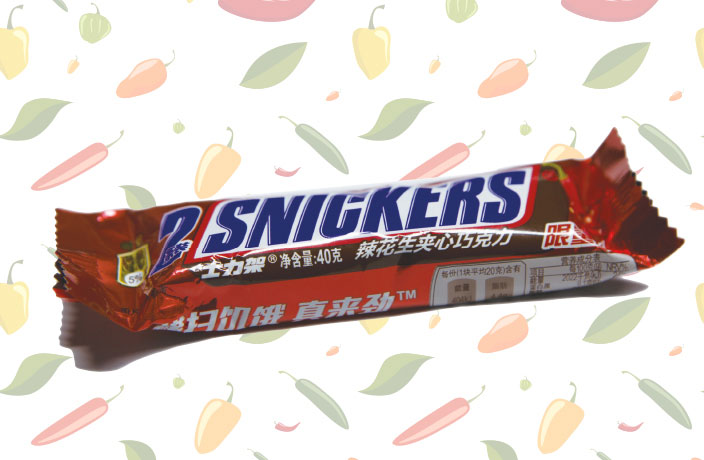snickers: (197, 168, 525, 254)
